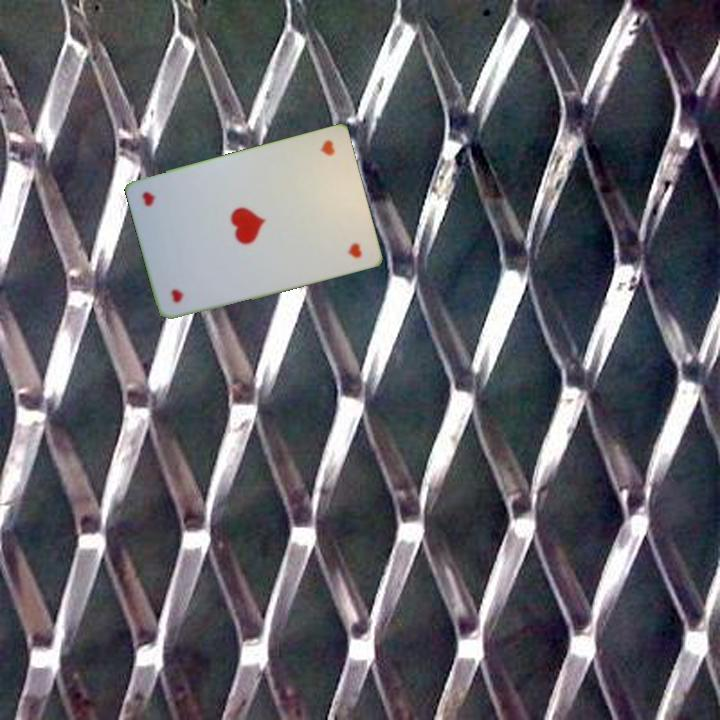h_a.png: (151, 233, 223, 312), (283, 134, 355, 213)
